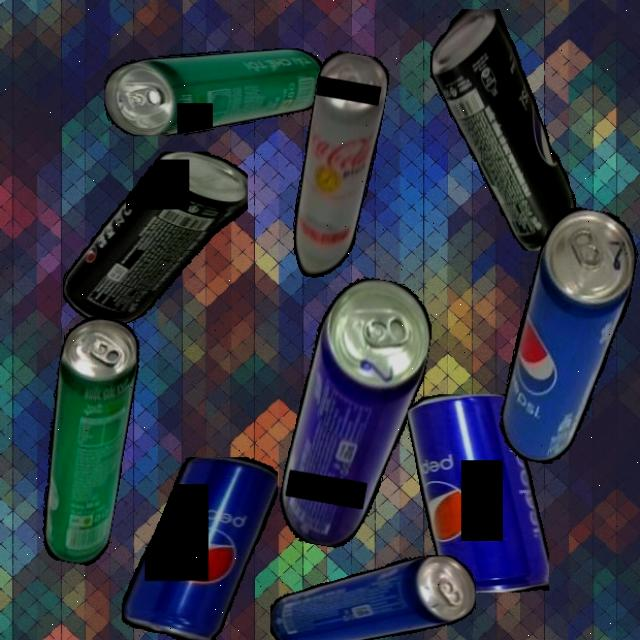debris: (274, 270, 438, 558), (494, 201, 640, 473), (429, 8, 576, 251), (63, 151, 248, 323), (26, 313, 146, 568), (120, 457, 278, 640), (408, 393, 549, 592), (284, 48, 392, 284), (104, 47, 325, 136), (269, 555, 476, 640)
